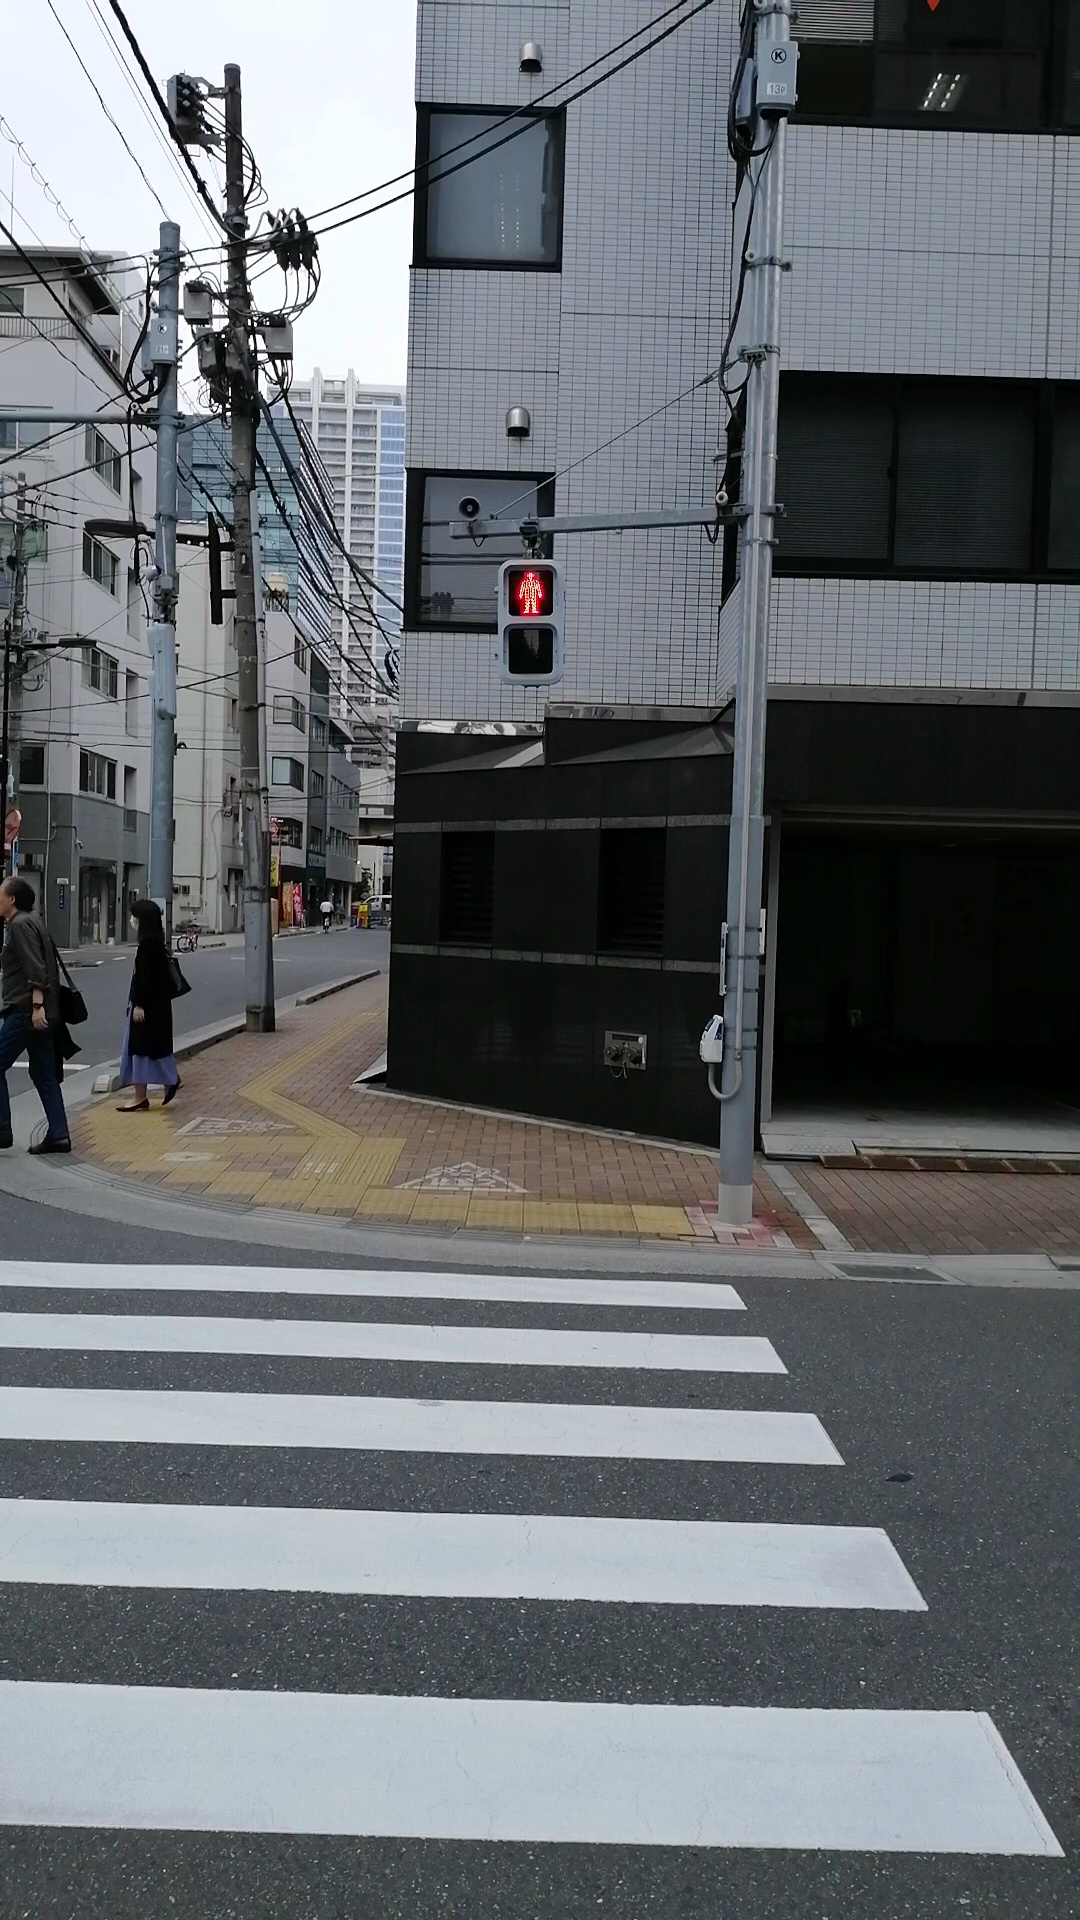red: (498, 559, 564, 684)
